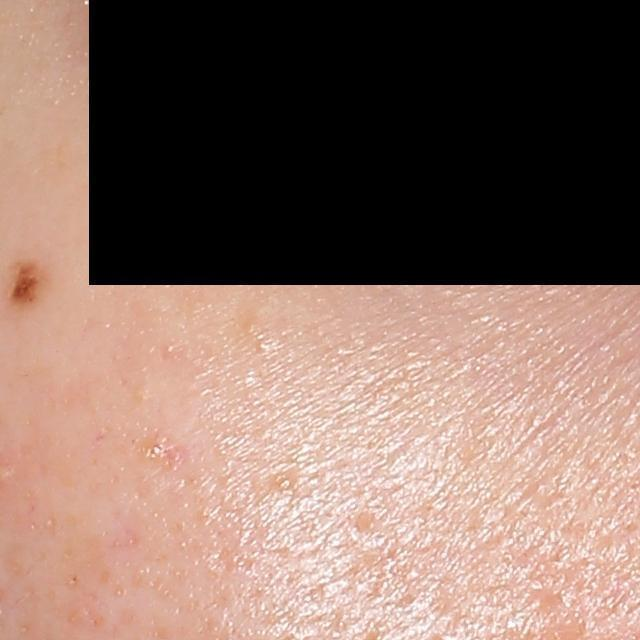nevus: (3, 254, 53, 311)
